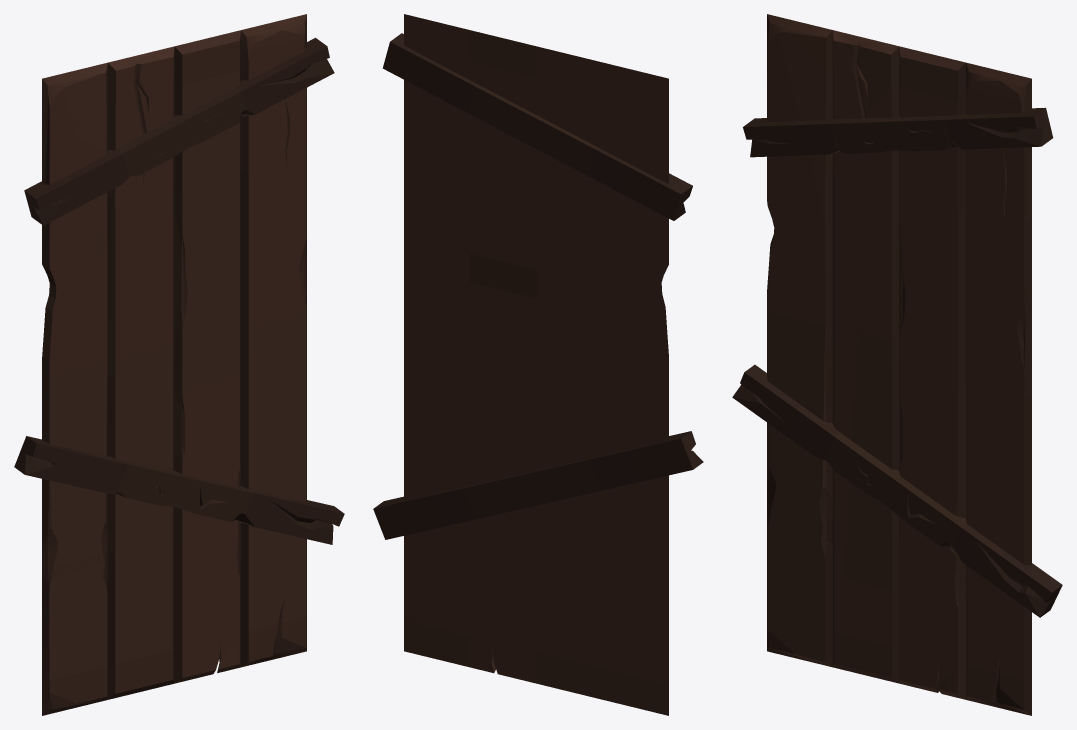
Rendered from SM_frontPanel03.fbx.
3 views of the same model, side by side, from view 1: azimuth 30°, elevation 25°; view 2: azimuth 150°, elevation 25°; view 3: azimuth 330°, elevation 25° (orthographic).
Visible parts, largest first — view 1: SM_frontPanel03; view 2: SM_frontPanel03; view 3: SM_frontPanel03.
Part boxes in pixels (x1,y1,x2,y2): SM_frontPanel03: (14,14,344,715); SM_frontPanel03: (373,14,703,715); SM_frontPanel03: (732,14,1062,715).
Size of the model in its own units: 85.88 by 163 by 5.53.
